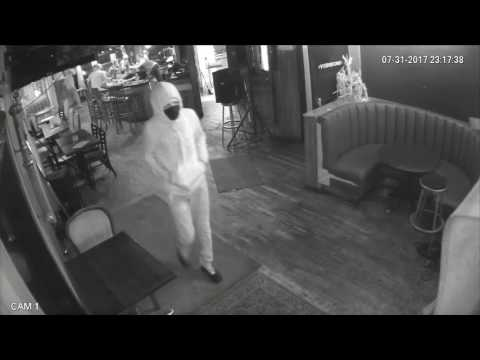Person: (141, 77, 227, 282)
